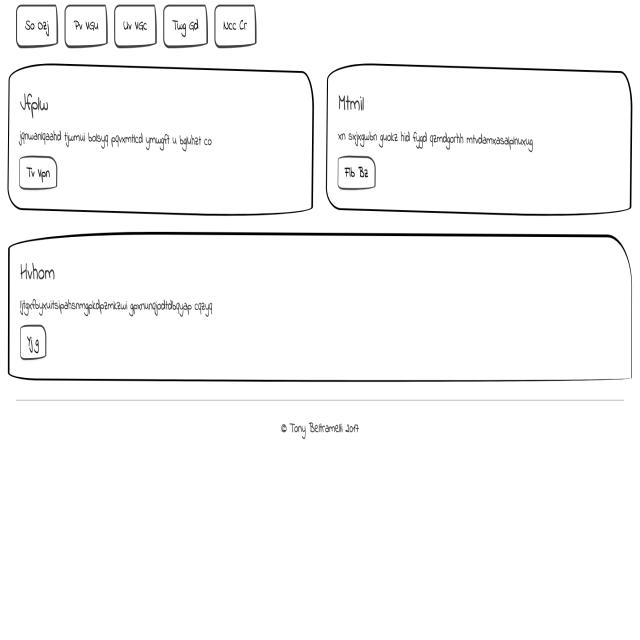Button: (15, 153, 60, 195), (335, 156, 377, 190), (18, 322, 48, 364)
Card: (5, 228, 638, 388), (325, 58, 634, 219), (8, 63, 315, 217)
Footer: (0, 397, 640, 640)
Heading 6: (18, 87, 52, 121), (18, 258, 56, 288), (336, 90, 367, 116)
Navigation Bar: (12, 0, 258, 49)
Paragraph: (19, 296, 218, 326), (335, 125, 535, 153), (15, 128, 219, 149)
